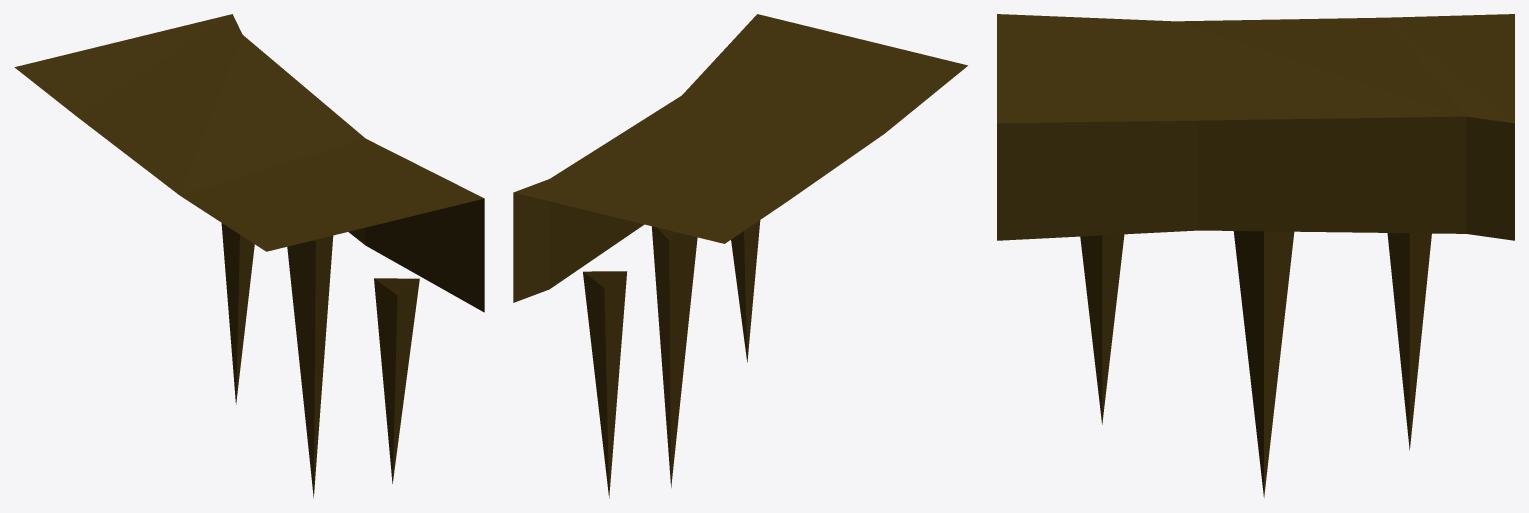
The model's file is model_upass_ledge_0.obj.
The picture shows the model from 3 angles, left to right: view 1: azimuth 30°, elevation 25°; view 2: azimuth 150°, elevation 25°; view 3: azimuth 270°, elevation 25°; orthographic projection. The views are drawn at different scales.
Parts seen in each view (by area): view 1: 1804; view 2: 1804; view 3: 1804.
Part boxes in pixels (box(x1,y1,x2,y2)): 1804: box(14, 14, 484, 498); 1804: box(513, 14, 967, 498); 1804: box(997, 14, 1514, 497).
Bounding box in the file's own units: 64 × 108 × 128.
